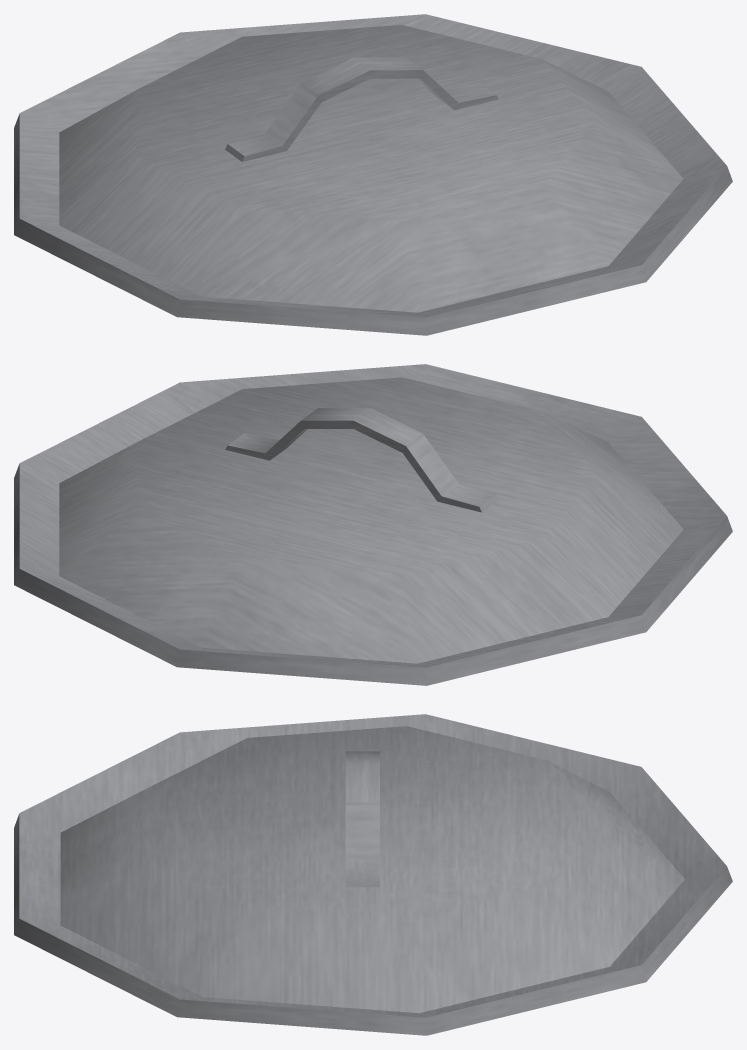
File: Pot_lid_01.glb
The picture shows the model from 3 angles, top to bottom: view 1: azimuth 30°, elevation 25°; view 2: azimuth 150°, elevation 25°; view 3: azimuth 270°, elevation 25°; orthographic projection.
Visible parts, largest first — view 1: Pot_lid_01; view 2: Pot_lid_01; view 3: Pot_lid_01.
Boxes of the visible parts, x1,y1,x2,y2 form: Pot_lid_01: (14, 14, 732, 335); Pot_lid_01: (14, 364, 732, 685); Pot_lid_01: (14, 714, 732, 1035).
Bounding box in the file's own units: 0.3671 × 0.0741 × 0.3616.
1 material, 1 textured.
